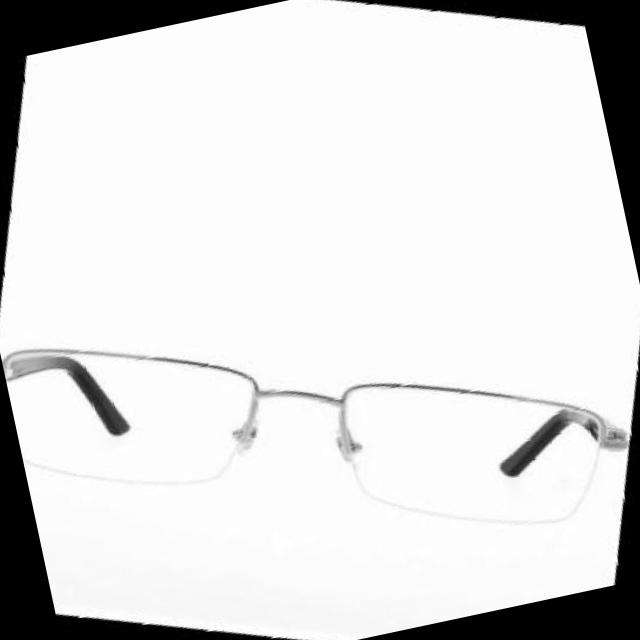glasses: (0, 210, 640, 640)
